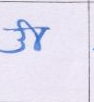i_matra: (19, 19, 46, 50)
